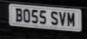0: (23, 8, 30, 24)
5: (39, 9, 47, 25), (31, 9, 38, 24)
B: (15, 7, 23, 22)
M: (67, 11, 76, 28)
S: (50, 10, 59, 26)
V: (59, 10, 66, 27)
